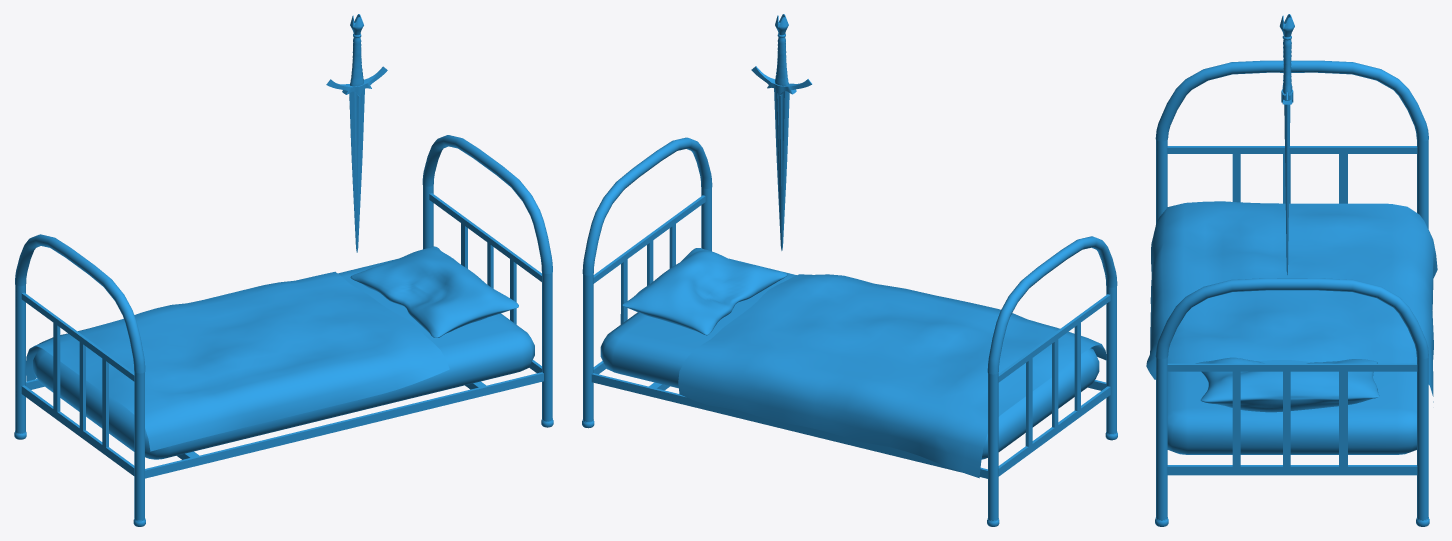
Rendered from bed.glb.
3 views of the same model, side by side, from view 1: azimuth 30°, elevation 25°; view 2: azimuth 150°, elevation 25°; view 3: azimuth 270°, elevation 25° (orthographic). The views are drawn at different scales.
Parts seen in each view (by area): view 1: Bed, Tops_low; view 2: Bed, Tops_low; view 3: Bed, Tops_low.
Part boxes in pixels (x1,y1,x2,y2): Bed: (14,135,553,526); Tops_low: (326,14,387,252); Bed: (582,137,1117,526); Tops_low: (751,14,812,250); Bed: (1146,60,1437,526); Tops_low: (1279,14,1294,274).
Bounding box in the file's own units: 3.16 × 2.88 × 1.74.
